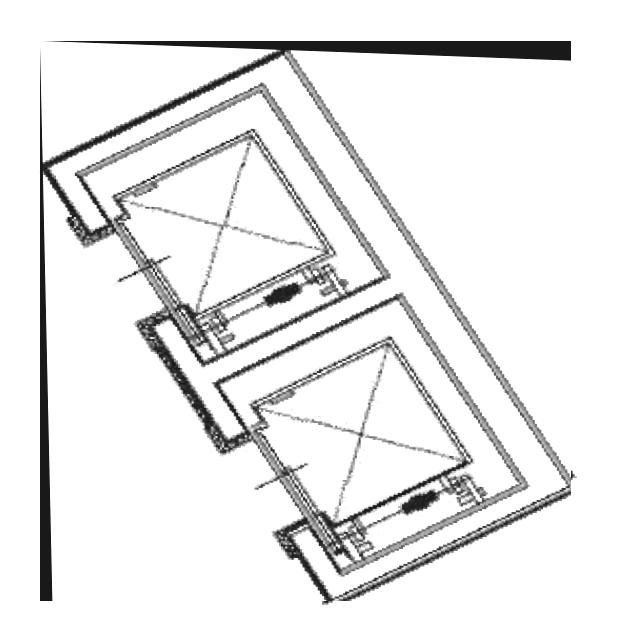lift: (40, 41, 571, 601)
